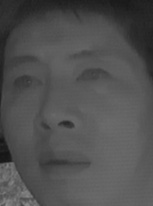eye: (74, 64, 112, 86), (9, 72, 43, 94)
mouth: (36, 145, 94, 182)
